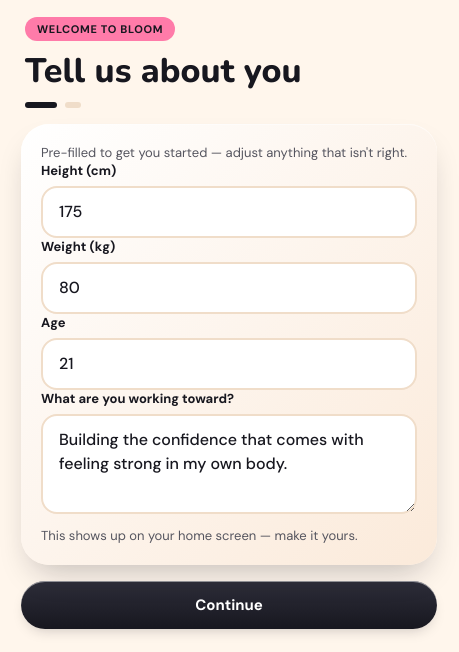
Test: Onboarding › lets the user go back to the stats step and keeps their edit
Replace the text in the number field labelled "Weight (kg)" with "72" at x=229, y=288, box [41,262,417,314]
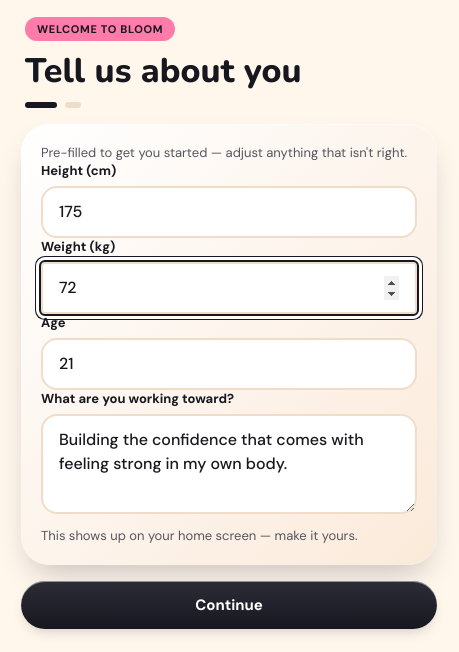
Click the button "Continue" at x=229, y=605, box [21,581,437,629]
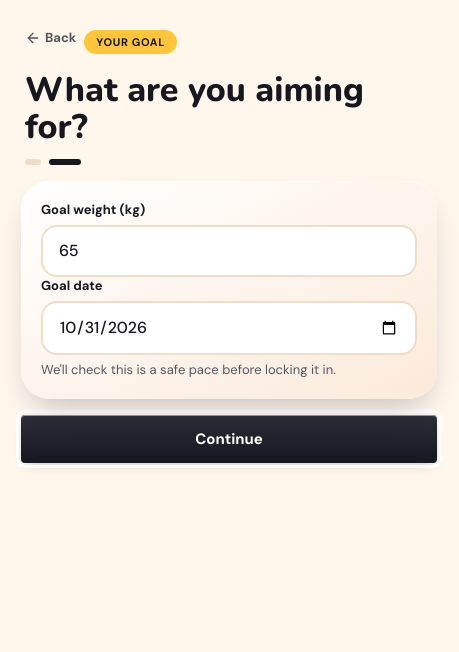
Note: Now on the goal step — go back to stats instead of continuing.
Click the button "Back" at x=51, y=38, box [17,16,84,60]
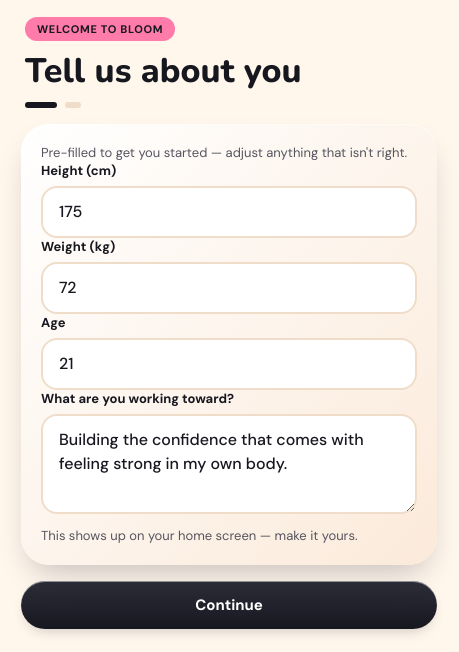
Check: the number field labelled "Weight (kg)" holds "72", box [41,262,417,314]
